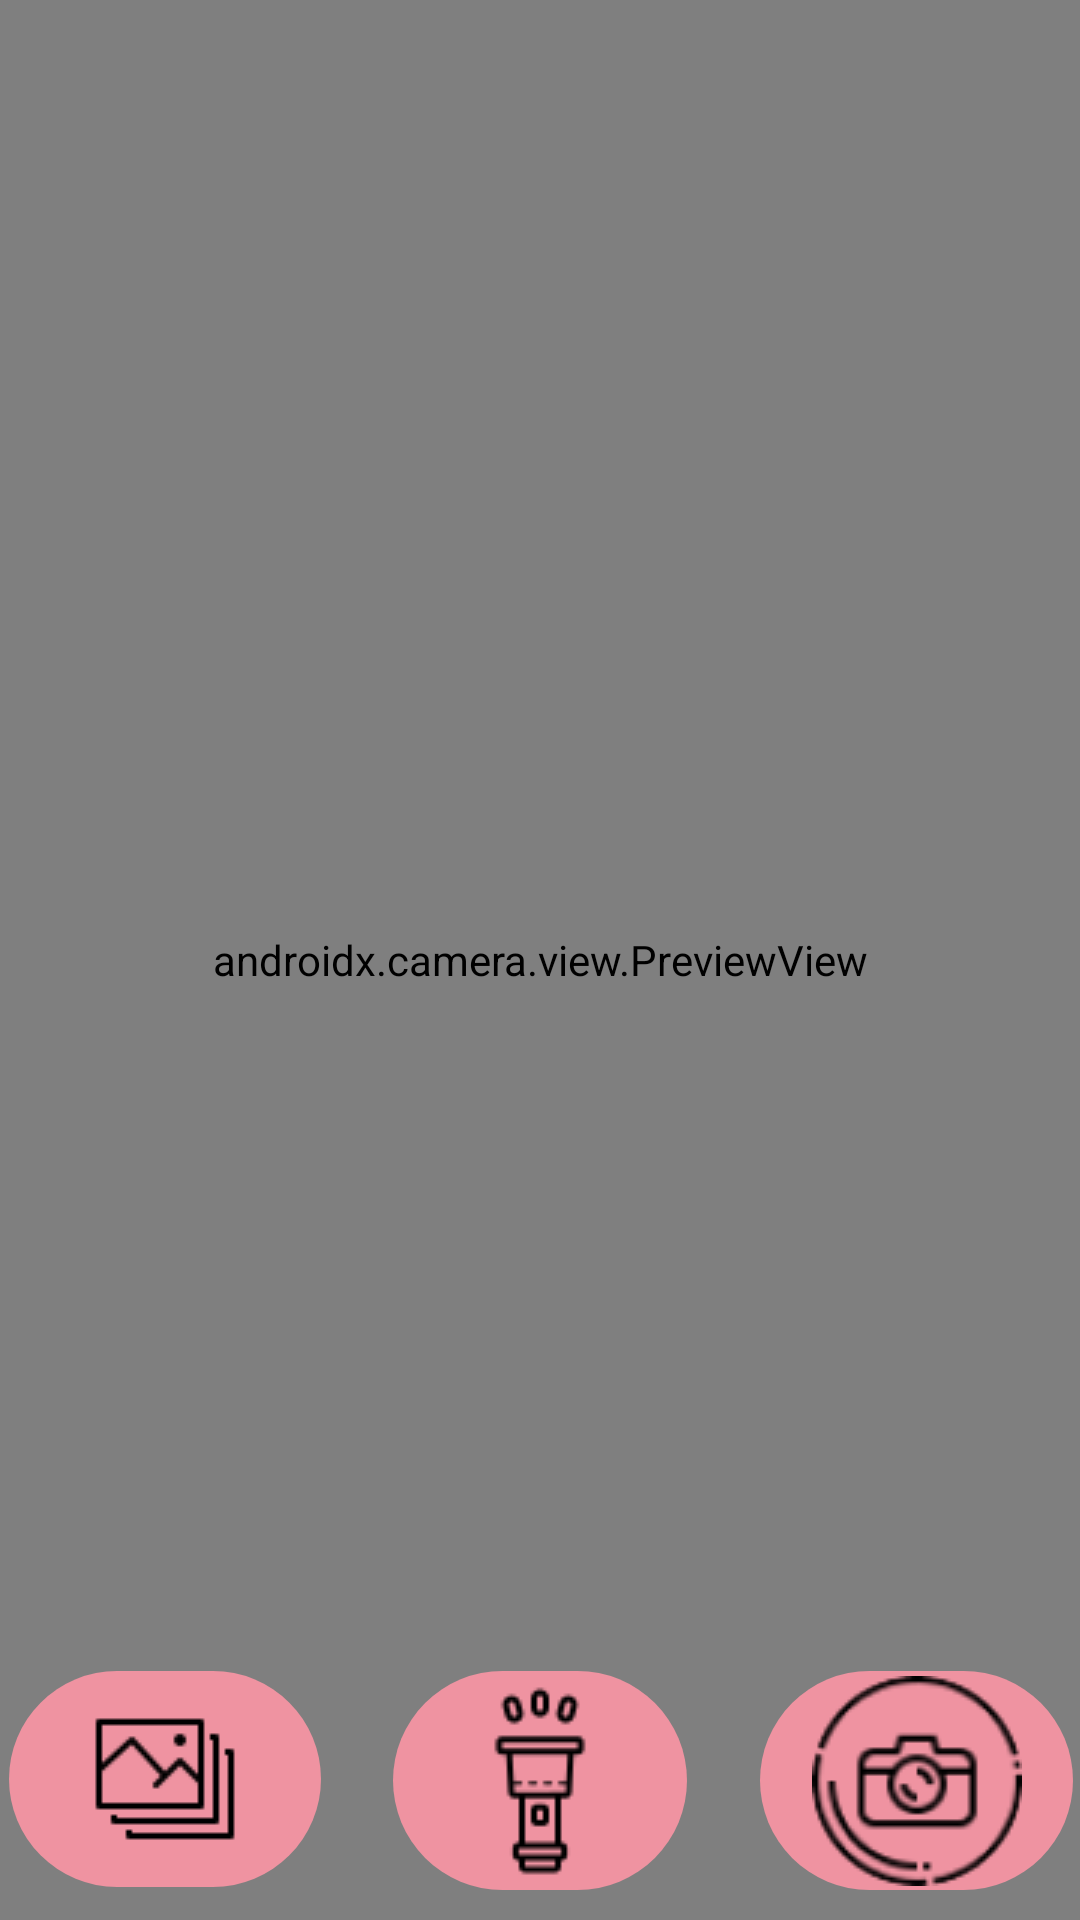

Named icons in this screenshot (1080x1920) and their bounding boxes, detection(x1, y1, x2, y2):
gallery: detection(9, 1671, 321, 1887)
lighter: detection(393, 1671, 687, 1890)
